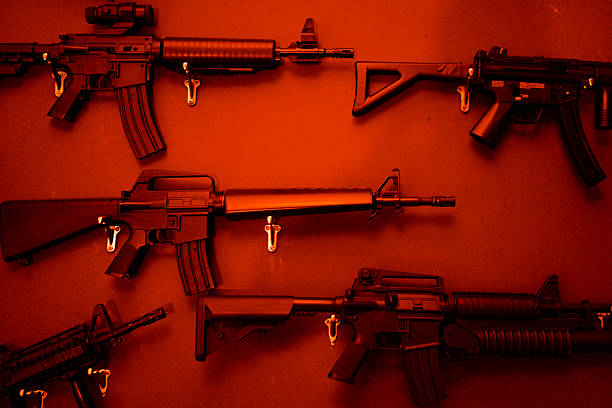rifle: (4, 148, 461, 309), (191, 268, 612, 407), (1, 1, 356, 158), (351, 50, 612, 193), (1, 296, 176, 407)
